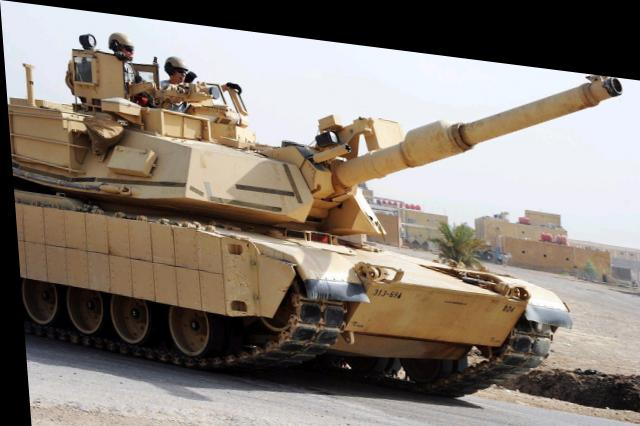other: (154, 50, 197, 90), (108, 23, 136, 73)
tank: (5, 92, 548, 398)
